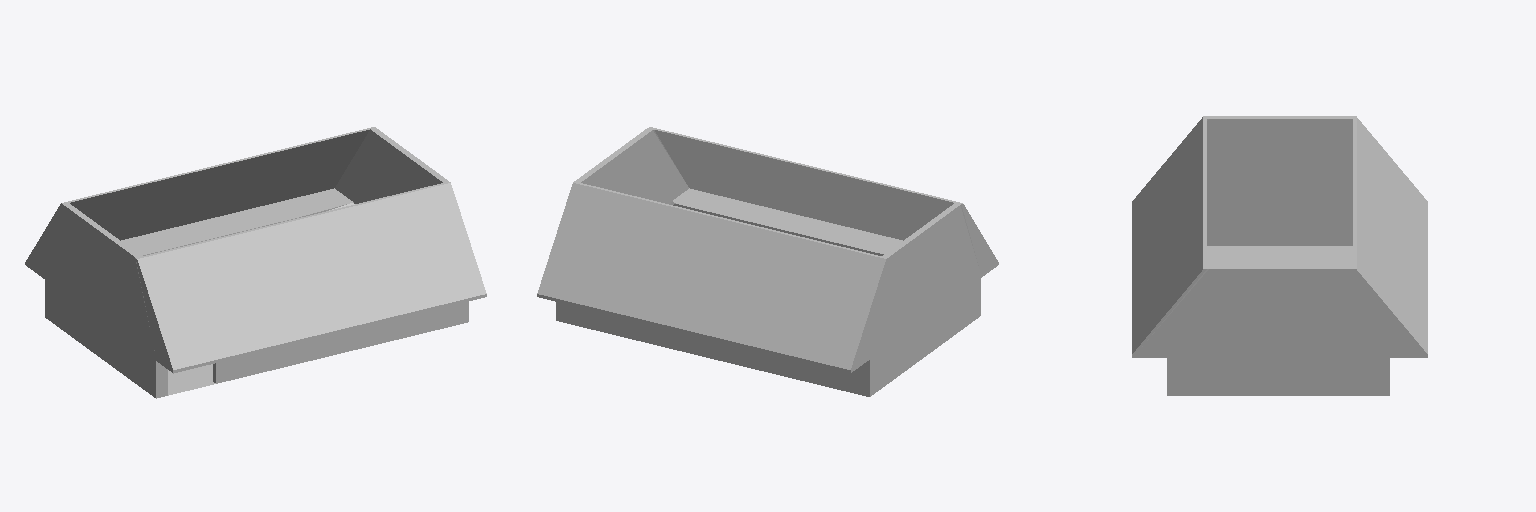
The model's file is sporthalle.obj.
3 renders of one model, left to right at view 1: azimuth 30°, elevation 25°; view 2: azimuth 150°, elevation 25°; view 3: azimuth 270°, elevation 25°, orthographic.
Parts seen in each view (by area): view 1: sprothalle_Plane.002, boden_Plane; view 2: sprothalle_Plane.002; view 3: sprothalle_Plane.002, boden_Plane.
Part boxes in pixels (left/top/right/bottom): sprothalle_Plane.002: left=25, top=127, right=486, bottom=398; boden_Plane: left=168, top=364, right=212, bottom=391; sprothalle_Plane.002: left=537, top=127, right=998, bottom=396; sprothalle_Plane.002: left=1132, top=116, right=1427, bottom=395; boden_Plane: left=1207, top=246, right=1352, bottom=266.
Bounding box in the file's own units: 52.05 × 20 × 42.5.